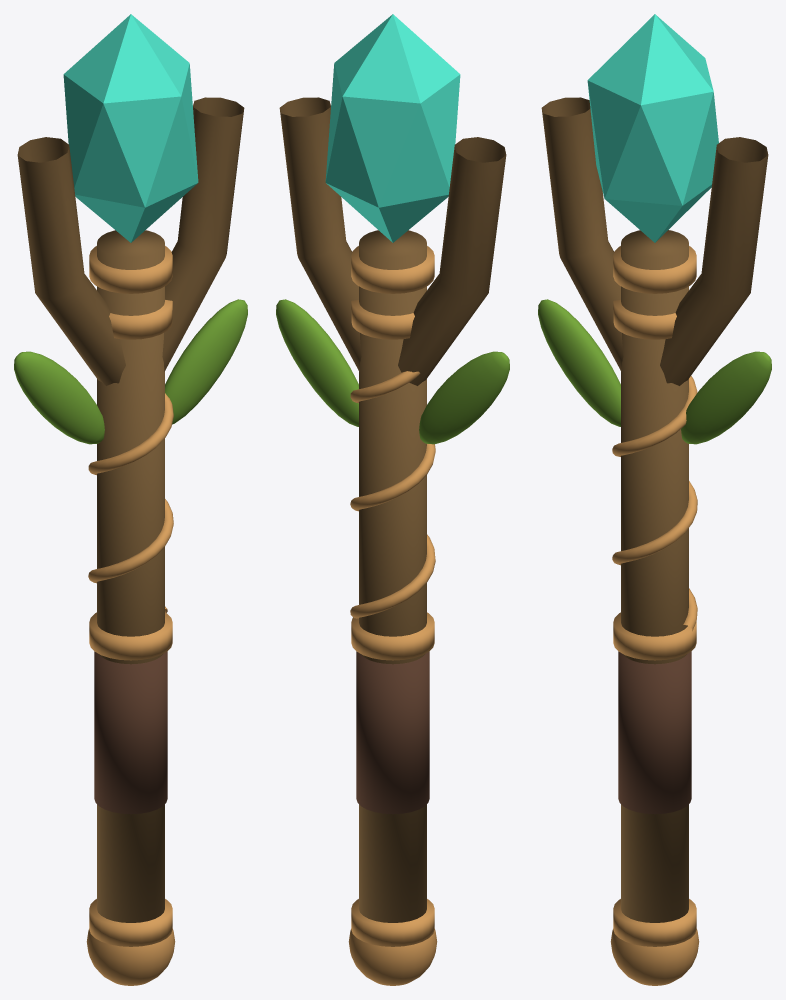
The model's file is chercheur.glb.
3 renders of one model, left to right at view 1: azimuth 30°, elevation 25°; view 2: azimuth 150°, elevation 25°; view 3: azimuth 330°, elevation 25°, orthographic.
Parts seen in each view (by area): view 1: Arme_chercheur; view 2: Arme_chercheur; view 3: Arme_chercheur.
Boxes of the visible parts, x1,y1,x2,y2 form: Arme_chercheur: (14, 14, 247, 985); Arme_chercheur: (276, 14, 509, 985); Arme_chercheur: (538, 14, 771, 985).
Size of the model in its own units: 0.2126 by 0.845 by 0.1021.
